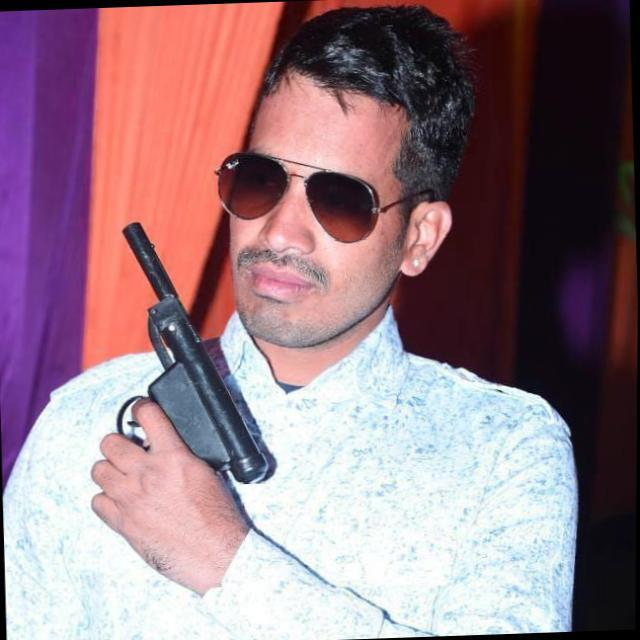weapon: (82, 210, 284, 520)
